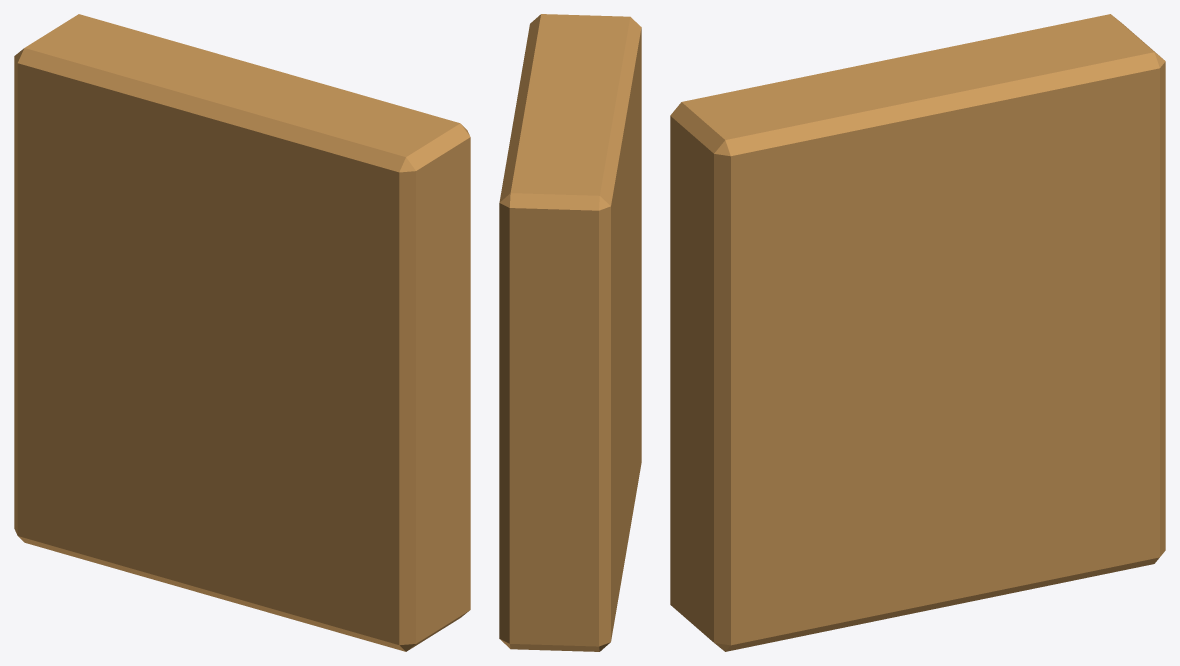
Rendered from Sector5_Gold_1.fbx.
3 renders of one model, left to right at view 1: azimuth 30°, elevation 25°; view 2: azimuth 150°, elevation 25°; view 3: azimuth 270°, elevation 25°, orthographic. The views are drawn at different scales.
Parts seen in each view (by area): view 1: Sector5_Gold_1; view 2: Sector5_Gold_1; view 3: Sector5_Gold_1.
Part boxes in pixels (left/top/right/bottom): Sector5_Gold_1: left=14, top=14, right=470, bottom=651; Sector5_Gold_1: left=499, top=14, right=641, bottom=651; Sector5_Gold_1: left=670, top=14, right=1165, bottom=651.
Size of the model in its own units: 512 by 900 by 790.
